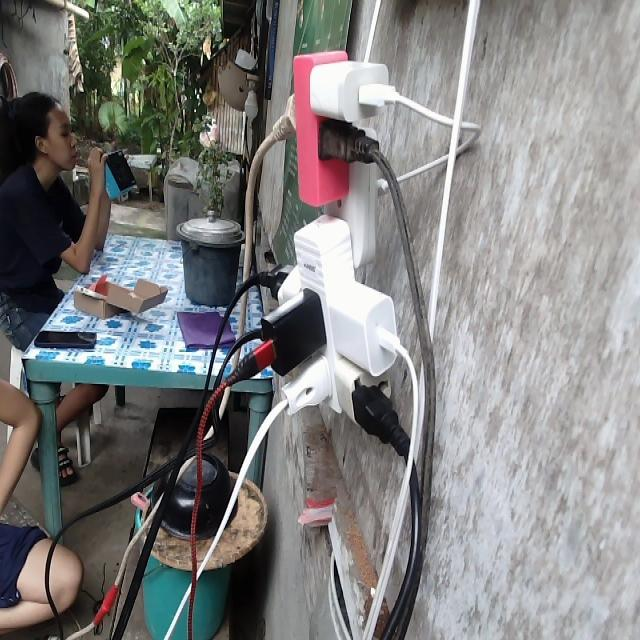-: (259, 45, 404, 435)
